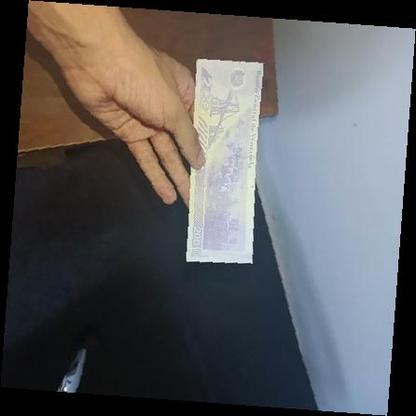two_hundred-back-vef: (185, 57, 265, 264)
